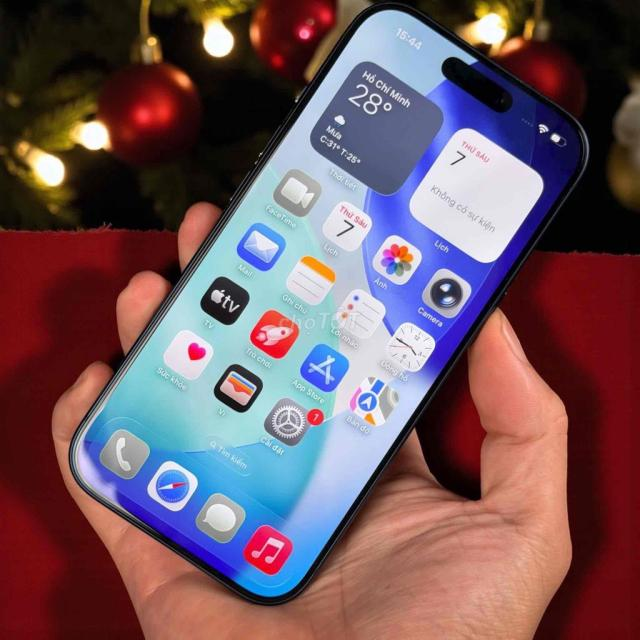gen_17: (66, 5, 594, 611)
